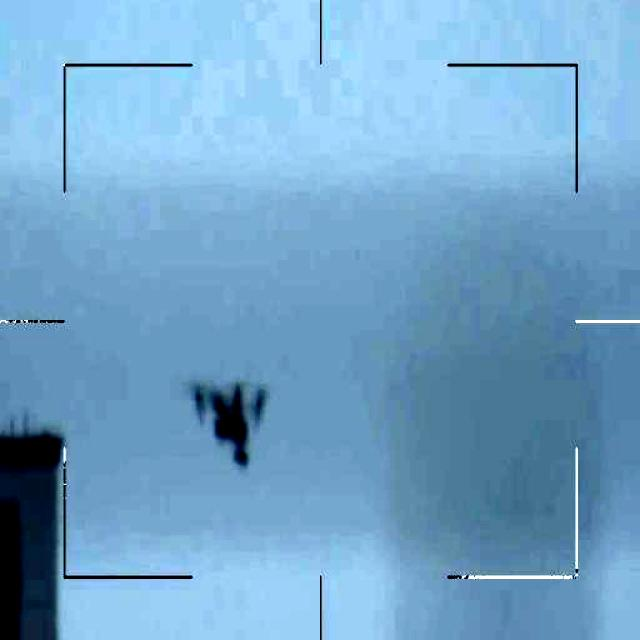bird: (190, 370, 274, 468)
